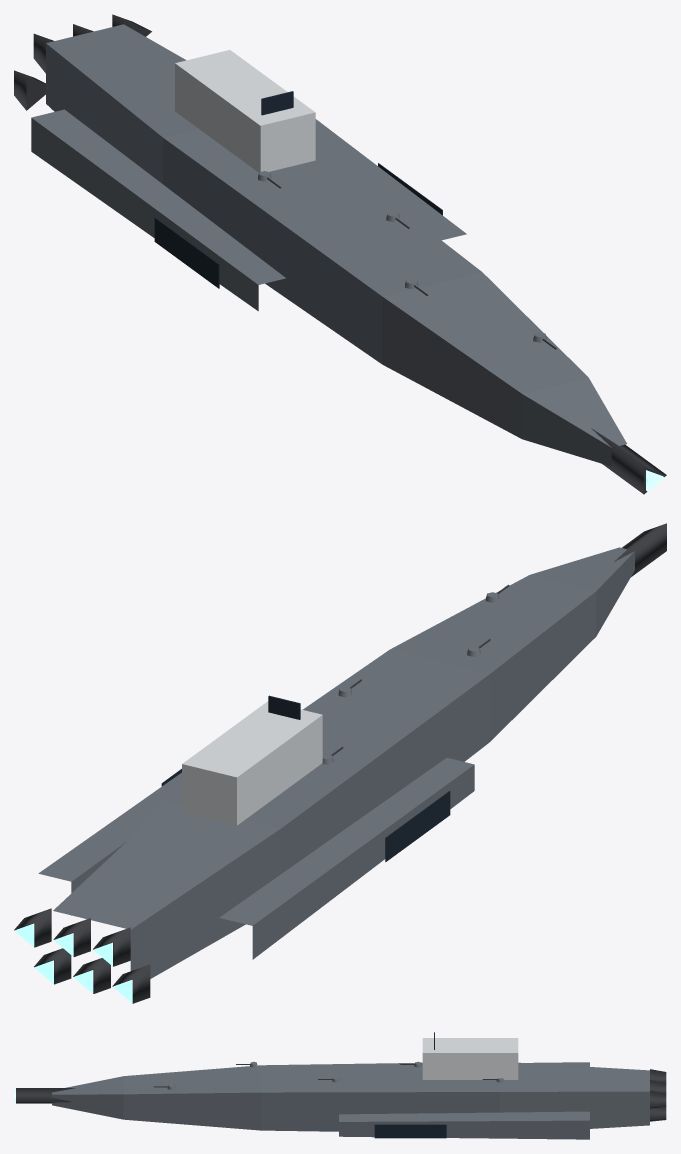
File: space_ship_battleship_mk3_lod2.glb
The picture shows the model from 3 angles, top to bottom: view 1: azimuth 30°, elevation 25°; view 2: azimuth 150°, elevation 25°; view 3: azimuth 270°, elevation 25°; orthographic projection. The views are drawn at different scales.
Visible parts, largest first — view 1: body, main_gun, hangar_r, engine_0; view 2: body, hangar_r, main_gun, engine_0, engine_1, engine_5, engine_3, engine_4, engine_2; view 3: body, hangar_l, main_gun, engine_5, engine_4, engine_1, engine_3.
Boxes of the visible parts, x1,y1,x2,y2 form: body: [31, 24, 626, 466]; main_gun: [591, 428, 666, 494]; hangar_r: [154, 217, 219, 288]; engine_0: [14, 70, 45, 110]; body: [38, 547, 634, 978]; hangar_r: [385, 791, 450, 861]; main_gun: [614, 523, 666, 576]; engine_0: [112, 964, 150, 1003]; engine_1: [93, 927, 130, 966]; engine_5: [14, 908, 51, 947]; engine_3: [53, 918, 90, 956]; engine_4: [34, 948, 71, 984]; engine_2: [73, 958, 110, 993]; body: [52, 1032, 649, 1139]; hangar_l: [374, 1124, 446, 1138]; main_gun: [14, 1088, 74, 1103]; engine_5: [650, 1090, 666, 1108]; engine_4: [650, 1107, 666, 1121]; engine_1: [650, 1069, 666, 1083]; engine_3: [650, 1080, 666, 1093].
Size of the model in its own units: 28.5 by 19.25 by 129.
